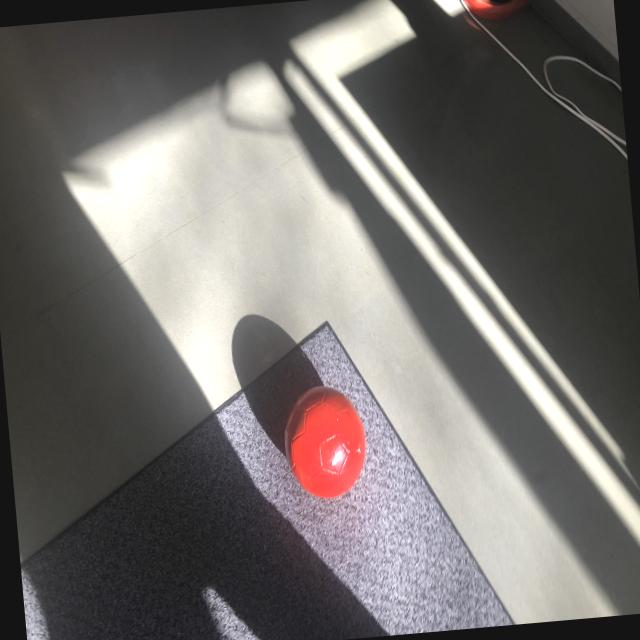red_ball: (282, 382, 371, 502)
